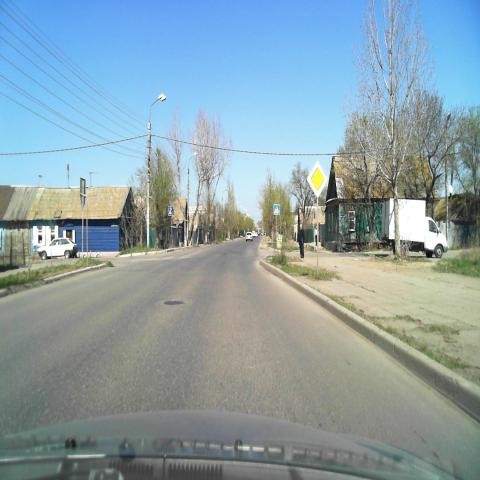2_1: (306, 162, 328, 198)
5_19_1: (168, 204, 174, 217), (274, 204, 280, 214)
